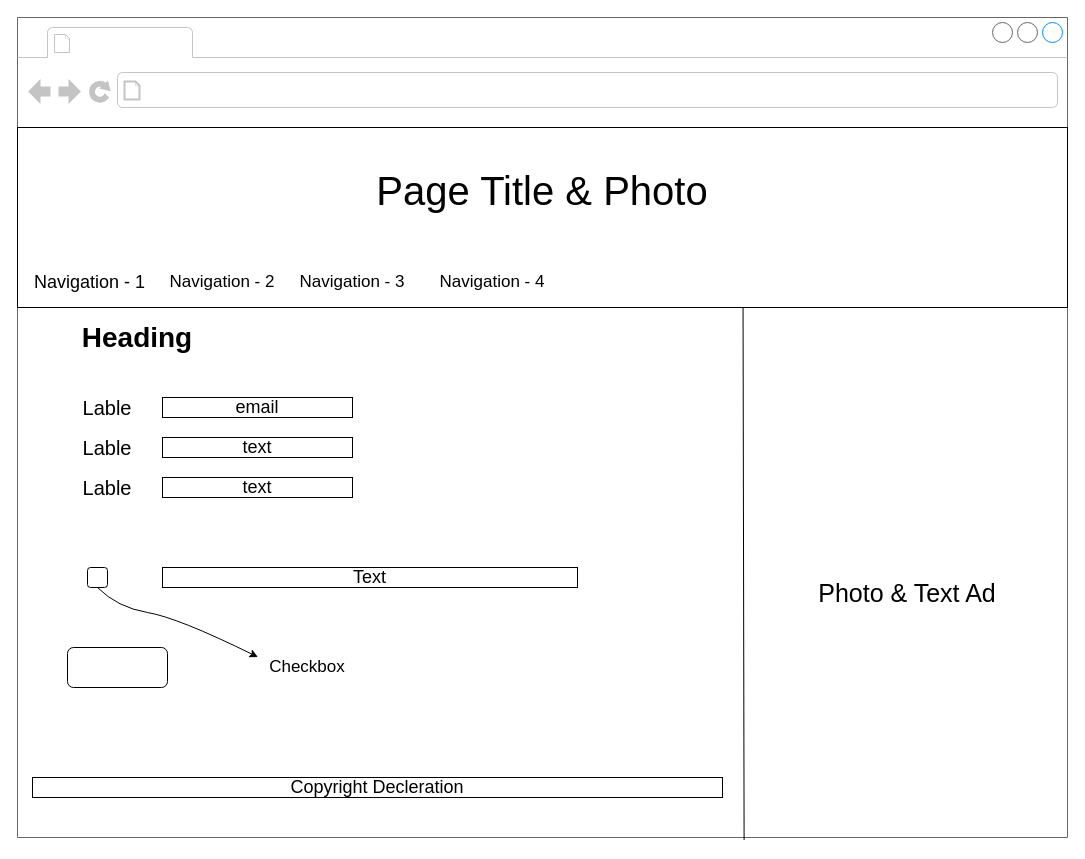
This 1085x859 diagram has some shape labels left out. The shapes that lost their labels are listed below. From the top down, each one's centre as x and y in pixels, then its label:
At (x=132, y=42): "Page 1".
At (x=272, y=90): "https://www.default.com".
At (x=117, y=667): "Button".
